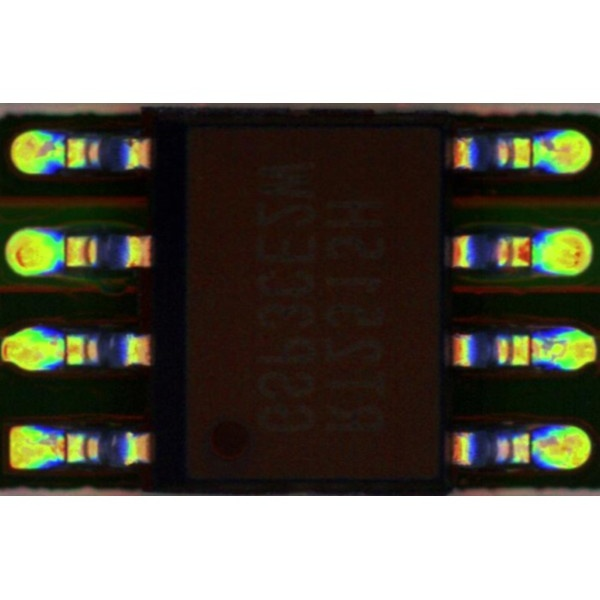Bad_podu: (42, 440, 86, 456), (514, 338, 548, 358)
